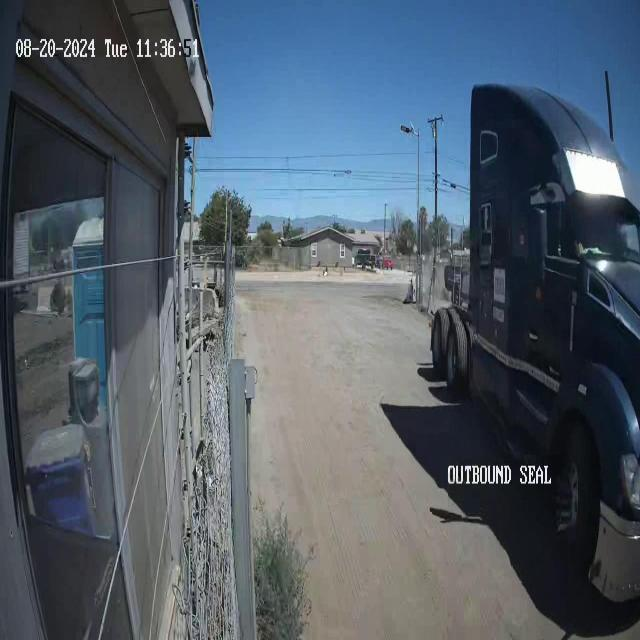TRUCK_IN: (430, 70, 639, 606)
